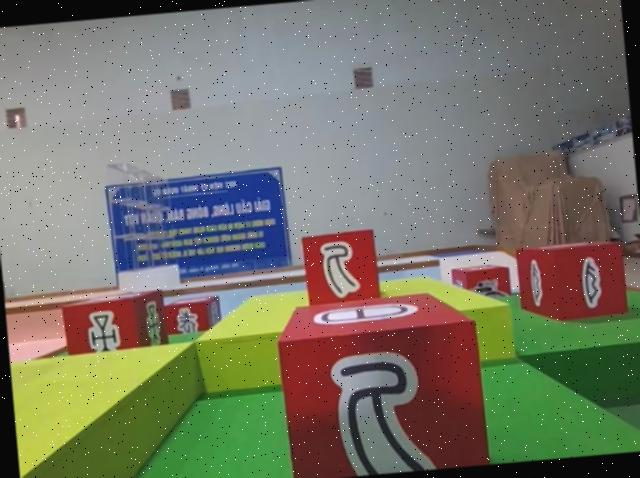R1: (449, 259, 514, 318)
R2 Fake: (276, 281, 501, 478), (297, 225, 383, 313), (163, 292, 226, 345)
R2 Real: (513, 235, 631, 333), (59, 284, 171, 376)
